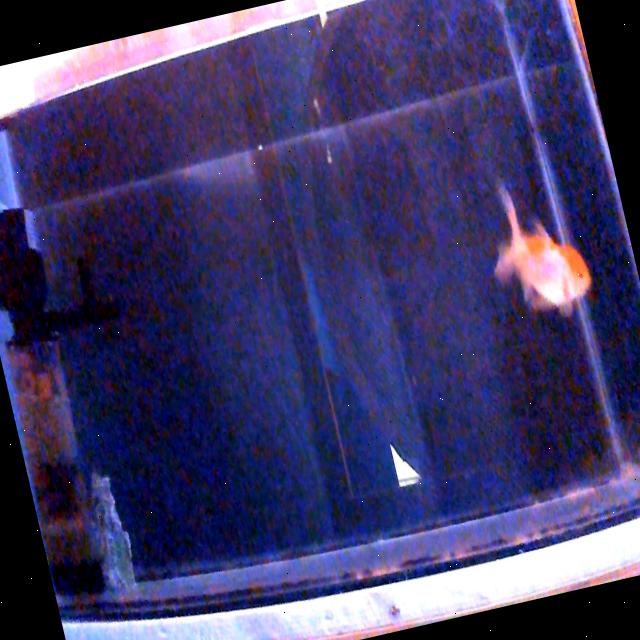fish: (474, 169, 597, 326)
